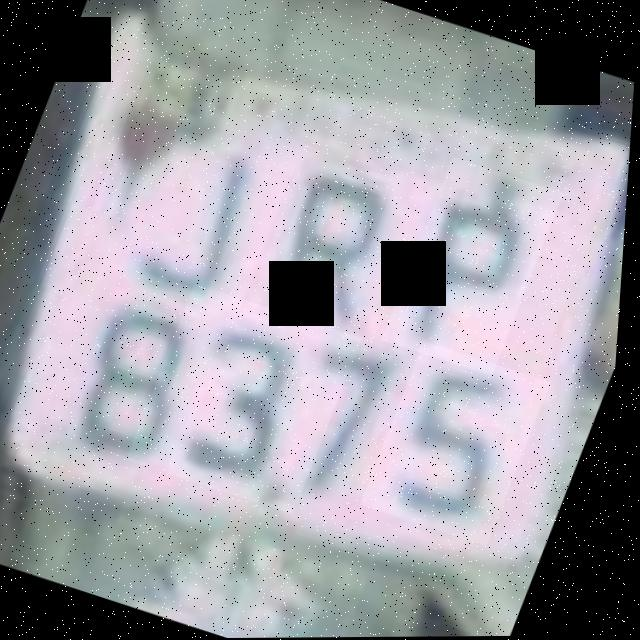3: (129, 283, 369, 516)
5: (365, 341, 558, 548)
7: (242, 323, 435, 529)
8: (41, 268, 237, 482)
J: (96, 105, 305, 330)
P: (385, 157, 569, 378)
R: (225, 138, 439, 359)
